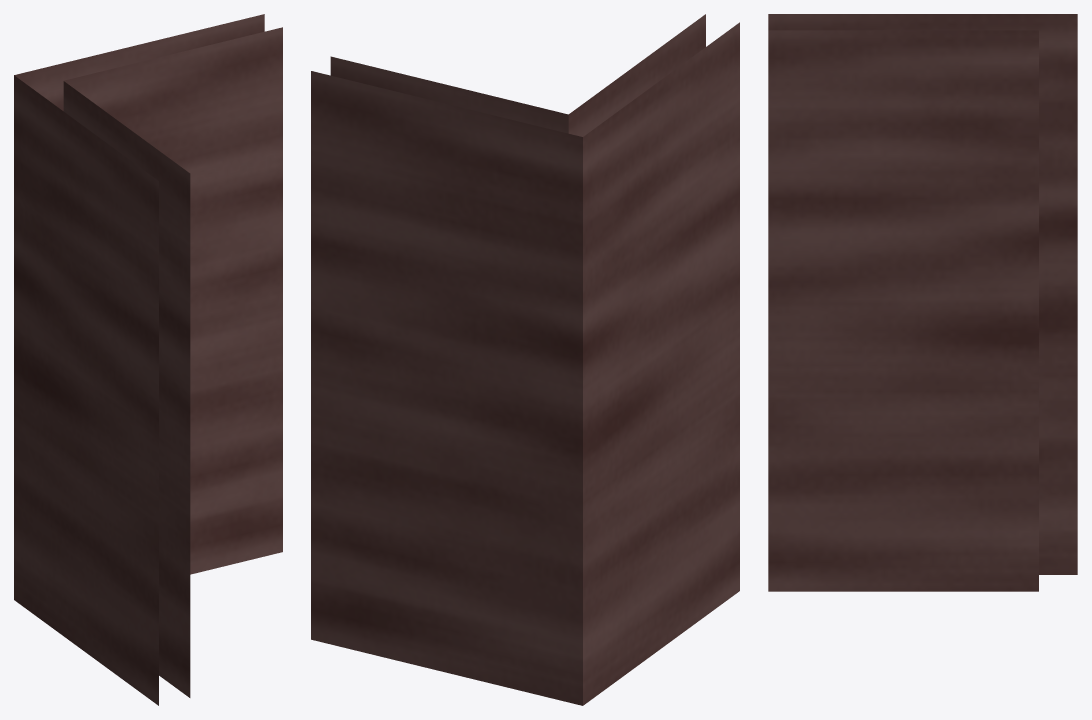
File: SM_CornerBasic_4m.fbx
3 views of the same model, side by side, from view 1: azimuth 30°, elevation 25°; view 2: azimuth 150°, elevation 25°; view 3: azimuth 270°, elevation 25° (orthographic). The views are drawn at different scales.
Visible parts, largest first — view 1: SM_CornerBasic_4m; view 2: SM_CornerBasic_4m; view 3: SM_CornerBasic_4m.
Part boxes in pixels (x1=…): SM_CornerBasic_4m: x1=14, y1=14, x2=282, y2=705; SM_CornerBasic_4m: x1=311, y1=14, x2=739, y2=705; SM_CornerBasic_4m: x1=768, y1=14, x2=1077, y2=591.
Bounding box in the file's own units: 200 × 400 × 200.
Materials: 1 (1 with a texture image).
